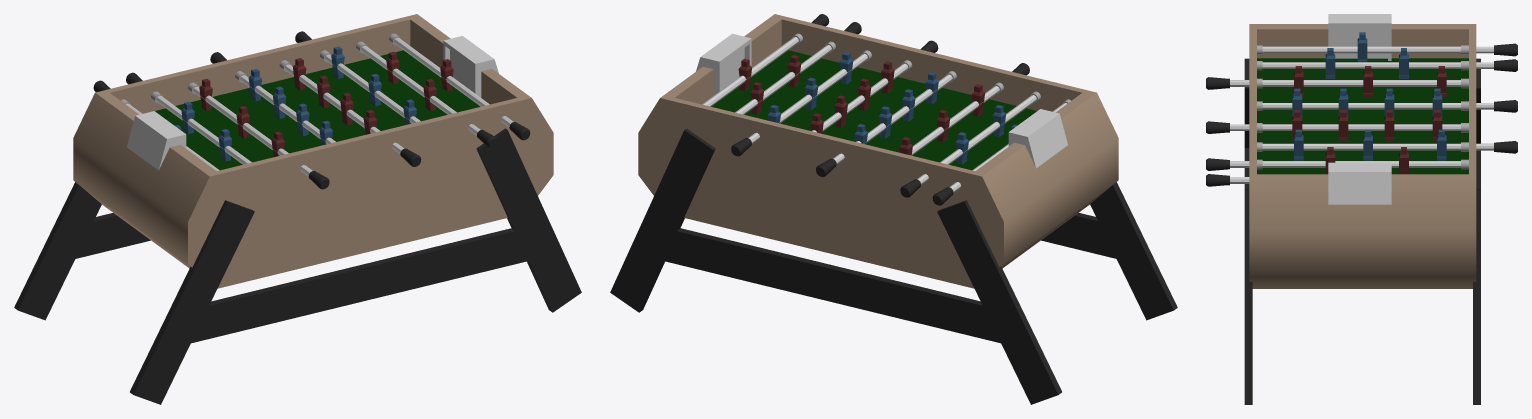
Rendered from babyfoot.fbx.
The picture shows the model from 3 angles, left to right: view 1: azimuth 30°, elevation 25°; view 2: azimuth 150°, elevation 25°; view 3: azimuth 270°, elevation 25°; orthographic projection.
Visible parts, largest first — view 1: pCube1554, pCube1582, pCube1581, pCube1578, pCube1580, pCube1555, pCube1583, pCube1556, pCylinder51, pCylinder57, pCylinder34, pCylinder30 (+3 smaller); view 2: pCube1554, pCube1583, pCube1580, pCube1579, pCube1581, pCube1555, pCube1582, pCube1556, pCylinder30, pCylinder51, pCylinder42, pCylinder57 (+3 smaller); view 3: pCube1554, pCube1556, pCube1555, pCube1578, pCylinder25, pCylinder42, pCube1579, pCylinder34, pCylinder30, pCylinder46, pCylinder37, pCylinder57 (+14 smaller).
Boxes of the visible parts, box(x1,y1,x2,y2) form: pCube1554: box(73, 14, 553, 288); pCube1582: box(190, 225, 540, 343); pCube1581: box(130, 200, 254, 404); pCube1578: box(476, 128, 581, 312); pCube1580: box(14, 182, 101, 320); pCube1555: box(127, 111, 186, 170); pCube1583: box(75, 213, 150, 258); pCube1556: box(443, 36, 498, 97); pCylinder51: box(394, 37, 513, 127); pCylinder57: box(361, 45, 480, 135); pCylinder34: box(193, 86, 312, 176); pCylinder30: box(156, 95, 251, 164); pCube1554: box(638, 14, 1118, 288); pCube1583: box(663, 228, 1000, 343); pCube1580: box(937, 200, 1061, 404); pCube1579: box(610, 128, 715, 312); pCube1581: box(1090, 182, 1177, 320); pCube1555: box(1008, 109, 1067, 168); pCube1582: box(1041, 213, 1116, 258); pCube1556: box(696, 33, 751, 95); pCylinder30: box(917, 95, 1036, 184); pCylinder51: box(702, 37, 798, 106); pCylinder42: box(748, 53, 867, 143); pCylinder57: box(735, 45, 831, 114); pCube1554: box(1249, 24, 1476, 288); pCube1556: box(1328, 162, 1391, 204); pCube1555: box(1328, 14, 1391, 60); pCube1578: box(1244, 189, 1252, 404); pCylinder25: box(1262, 46, 1493, 53); pCylinder42: box(1262, 143, 1493, 150); pCube1579: box(1473, 189, 1480, 404); pCylinder34: box(1230, 80, 1460, 86); pCylinder30: box(1262, 62, 1493, 68); pCylinder46: box(1230, 124, 1460, 130); pCylinder37: box(1262, 103, 1493, 109); pCylinder57: box(1230, 161, 1460, 167).
Size of the model in its own units: 6.57 by 3.17 by 4.
